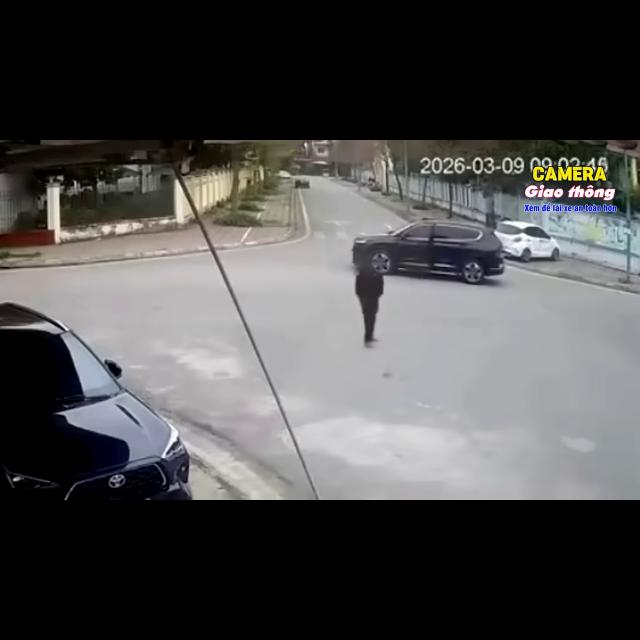car: (0, 303, 191, 499), (353, 220, 504, 283), (495, 221, 559, 261), (295, 178, 309, 188), (278, 170, 292, 179), (322, 169, 330, 177)
